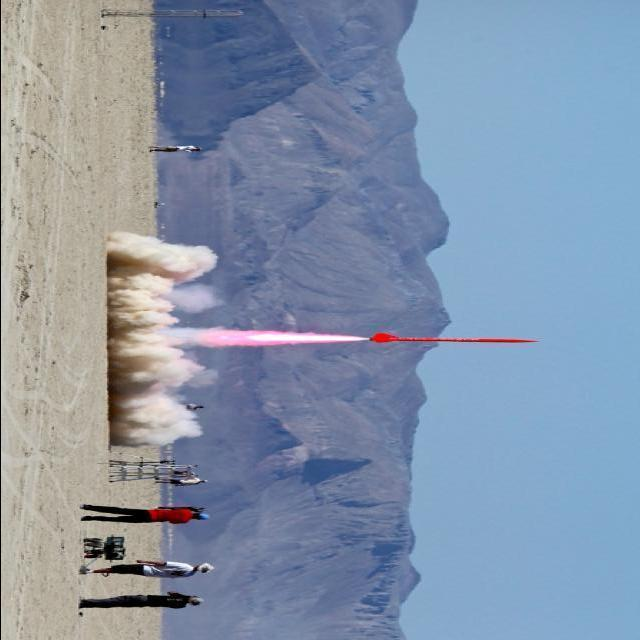missile: (352, 324, 544, 364)
